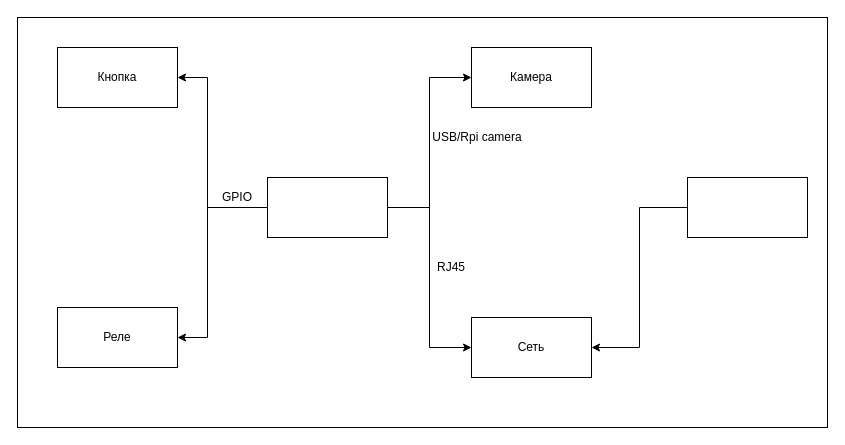
Some shapes in this 845 by 445 pixel diagram are drawn without their labels. Here are the shapes that lost their labels. From the top down, the centre of each, then its label:
point 327,207: Raspberry
point 747,207: Бюро пропусков
